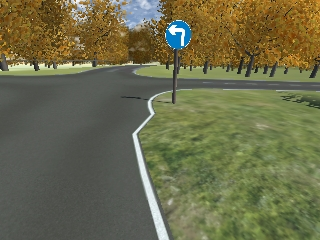left: (163, 20, 195, 47)
